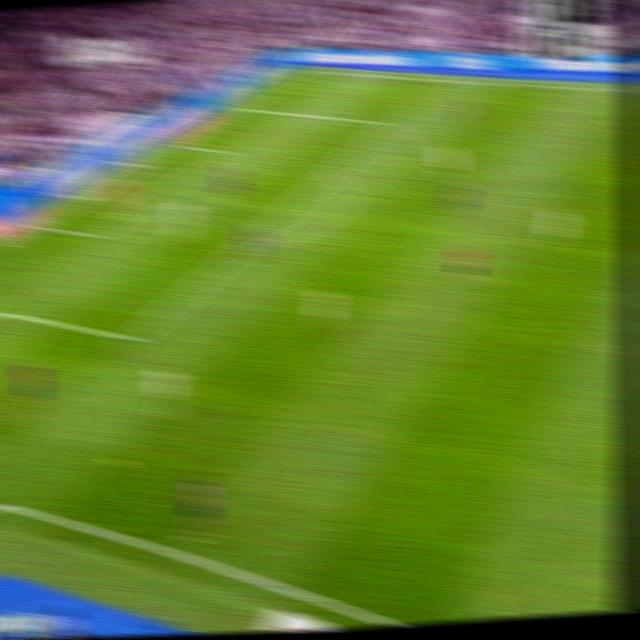bigarea_bottom_inner: (119, 324, 144, 350)
bigarea_top_inner: (379, 113, 401, 131)
bigarea_top_outter: (228, 97, 248, 112)
corner: (290, 63, 310, 76)
smallarea_bottom_inner: (85, 225, 107, 246)
smallarea_top_inner: (215, 142, 235, 158)
top_arc_area_intersection: (321, 163, 342, 180)
